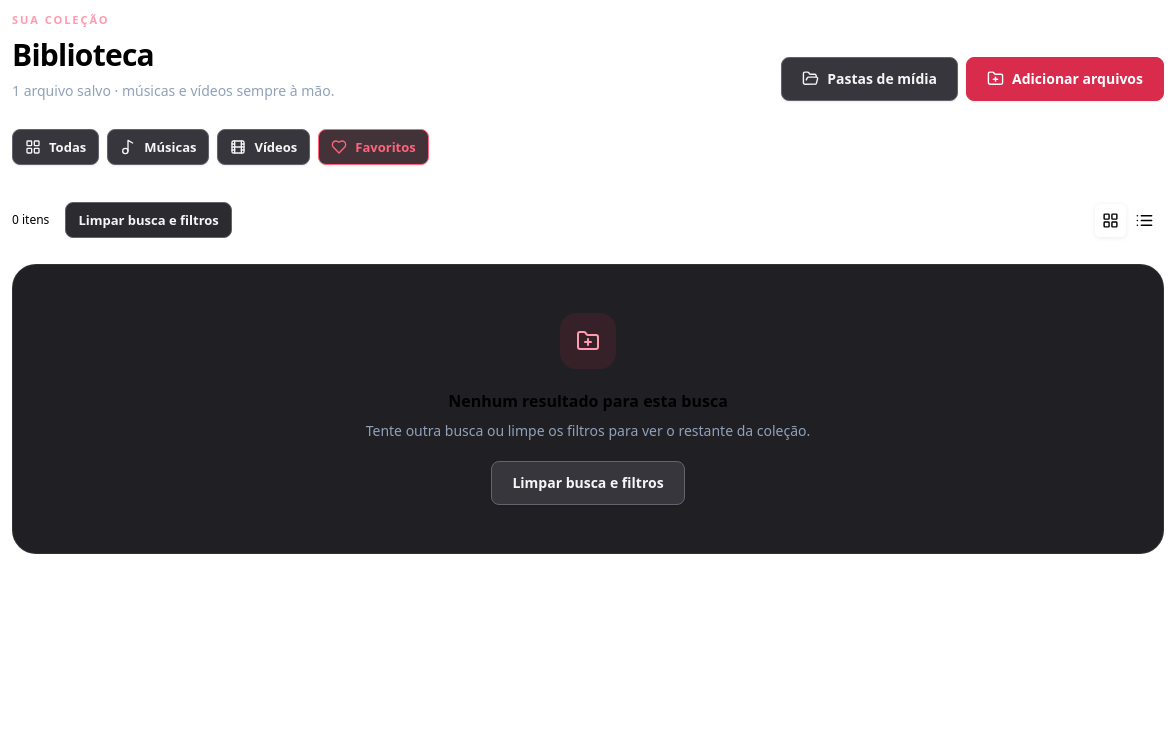
Test case: keeps a selected filter while searching and offers a way to clear both
This screenshot has width=1176, height=732.
Check: the heading "Nenhum resultado para esta busca" is shown, box [448,390,728,412]
Click the button "Limpar busca e filtros" next to "itens" at (149, 220), box [65,202,232,238]
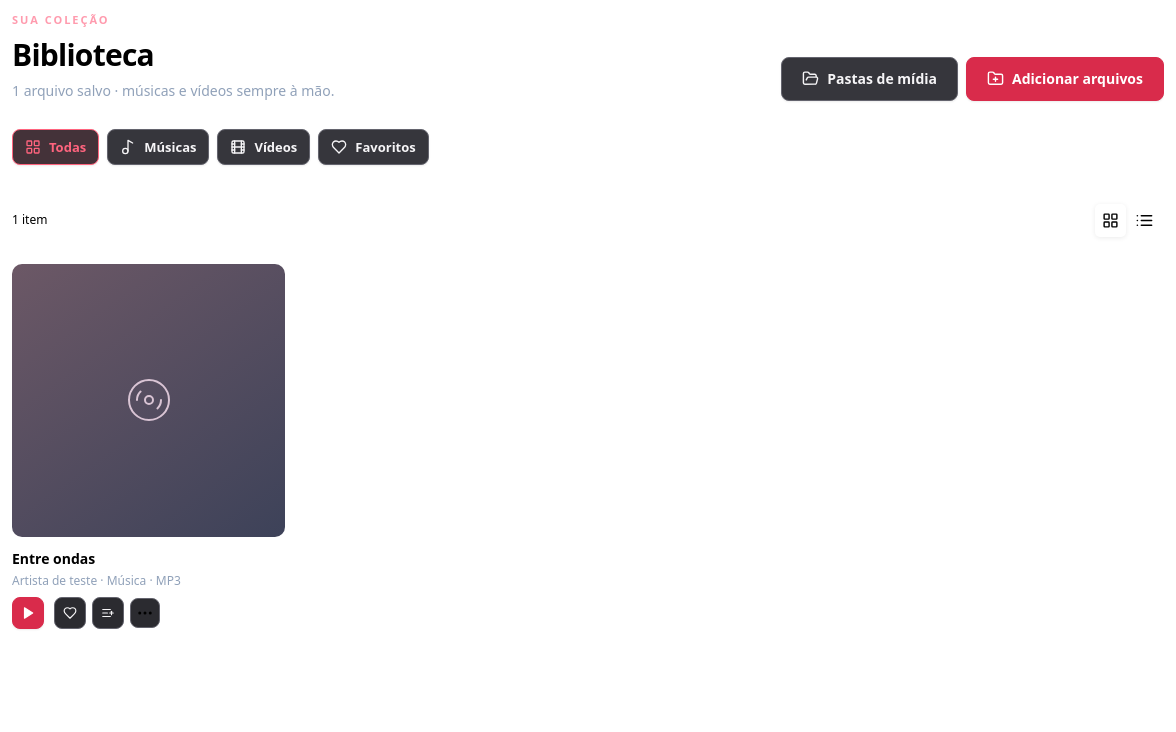
Check: the heading "Entre ondas" is shown, box [12,548,95,568]
